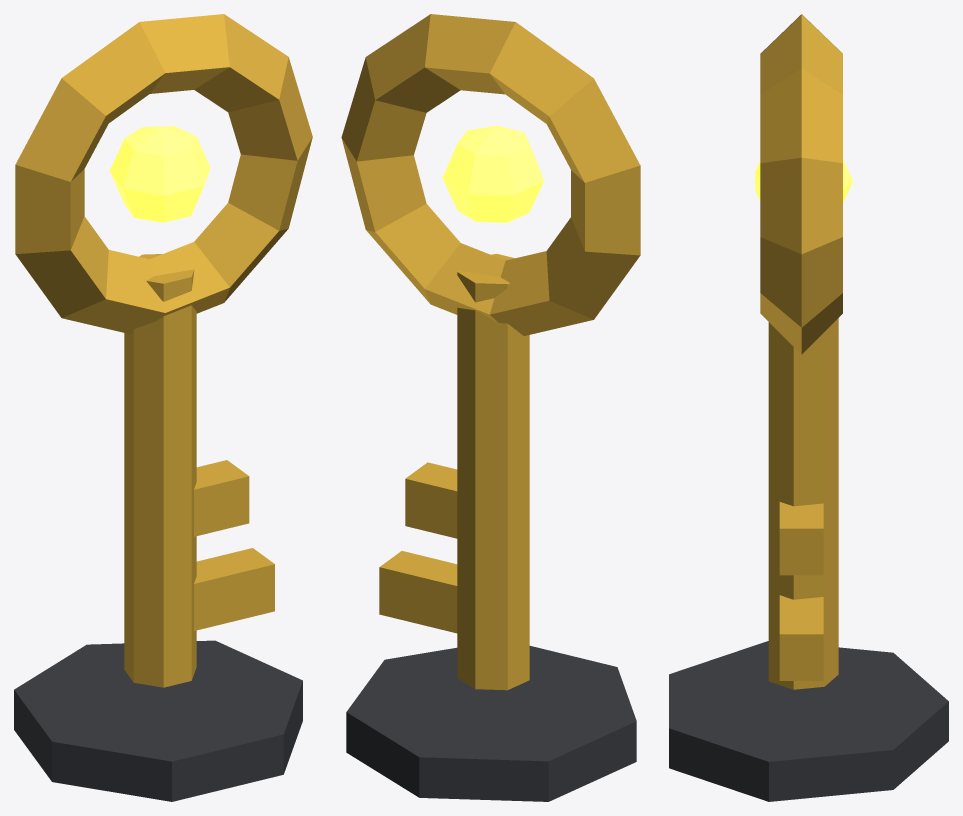
Rendered from key-lod1.glb.
3 views of the same model, side by side, from view 1: azimuth 30°, elevation 25°; view 2: azimuth 150°, elevation 25°; view 3: azimuth 270°, elevation 25° (orthographic).
Parts seen in each view (by area): view 1: key; view 2: key; view 3: key.
Boxes of the visible parts, left/top/right/bottom form: key: left=14, top=14, right=312, bottom=801; key: left=341, top=14, right=640, bottom=801; key: left=669, top=14, right=948, bottom=801.
Size of the model in its own units: 0.2312 by 0.5368 by 0.1901.
